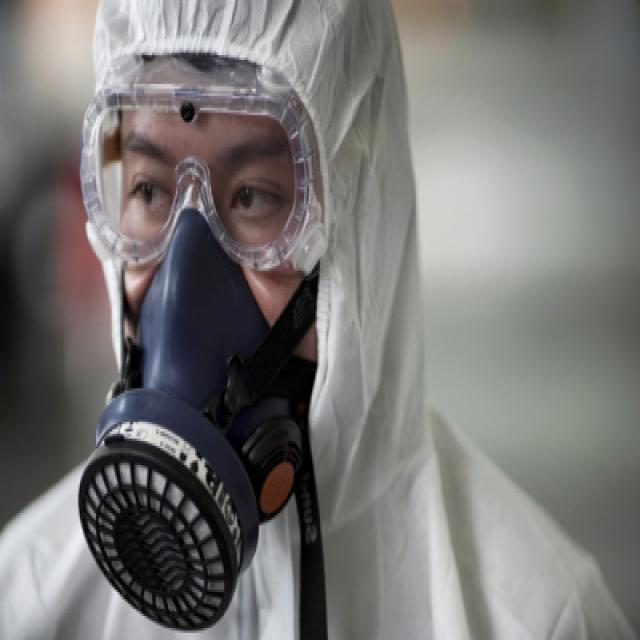mask: (90, 89, 320, 508)
